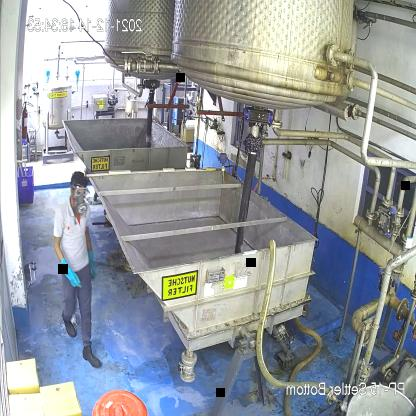goggles: (70, 182, 91, 200)
mask: (70, 194, 88, 215)
